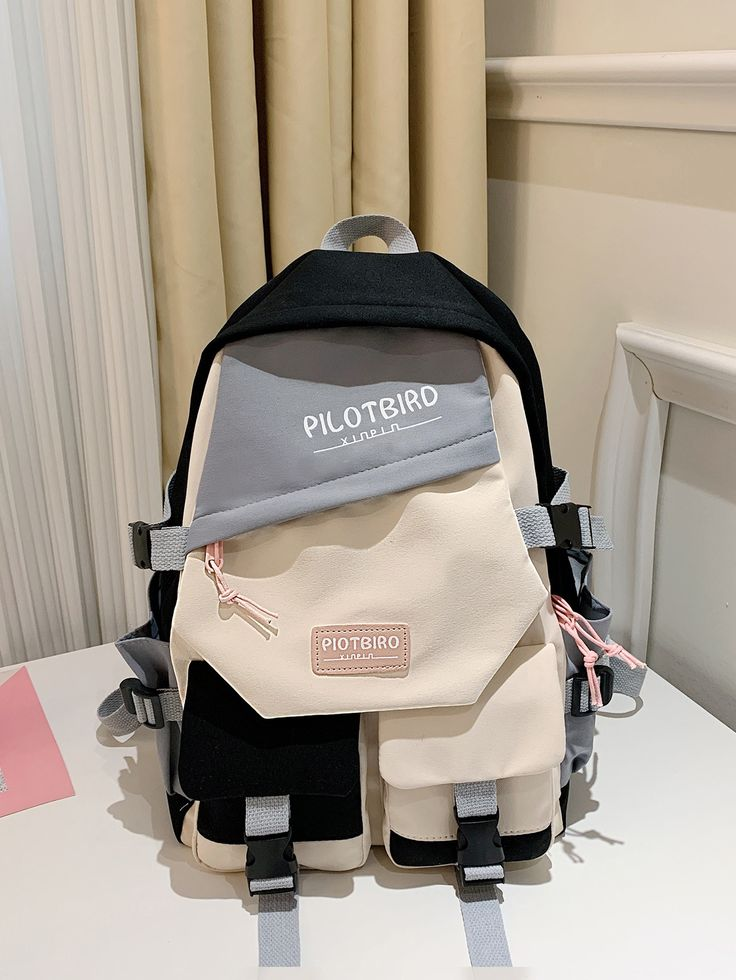nylon: (101, 213, 647, 965)
